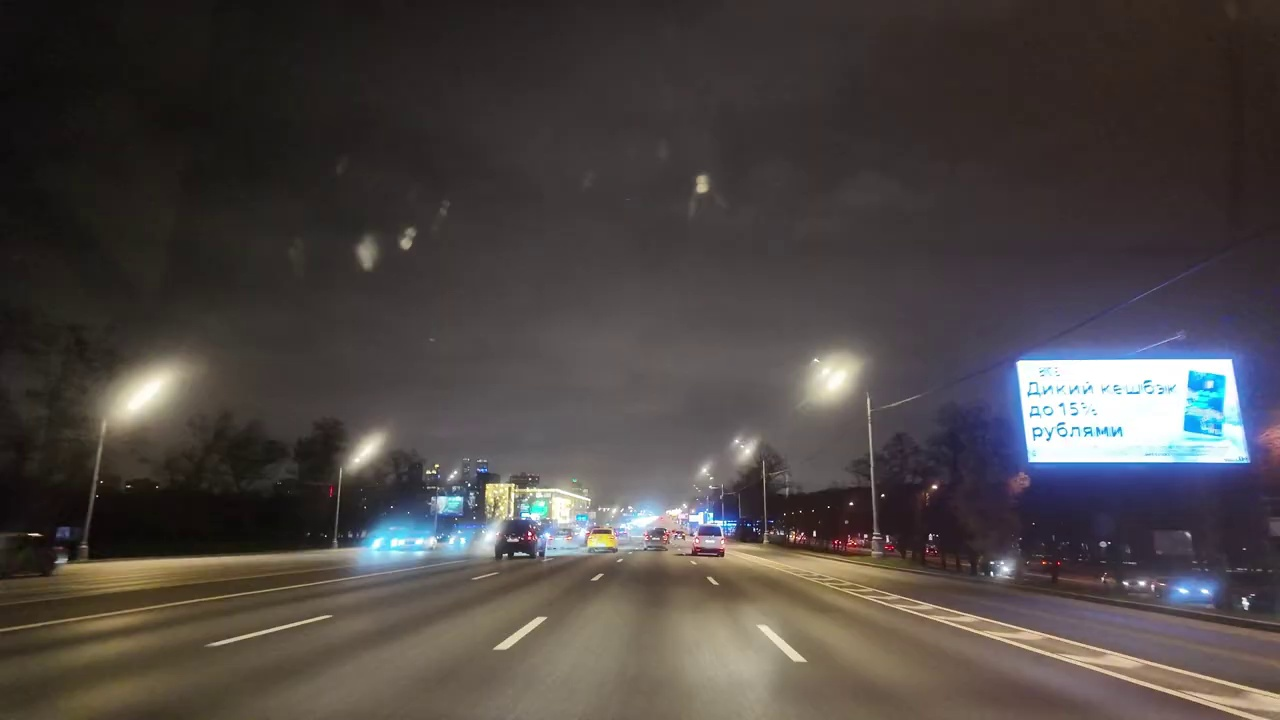acesa: (110, 366, 180, 428), (806, 355, 860, 409), (342, 430, 386, 475), (729, 434, 759, 467)
